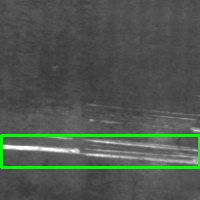scratches: (1, 135, 199, 167), (85, 101, 198, 131)
